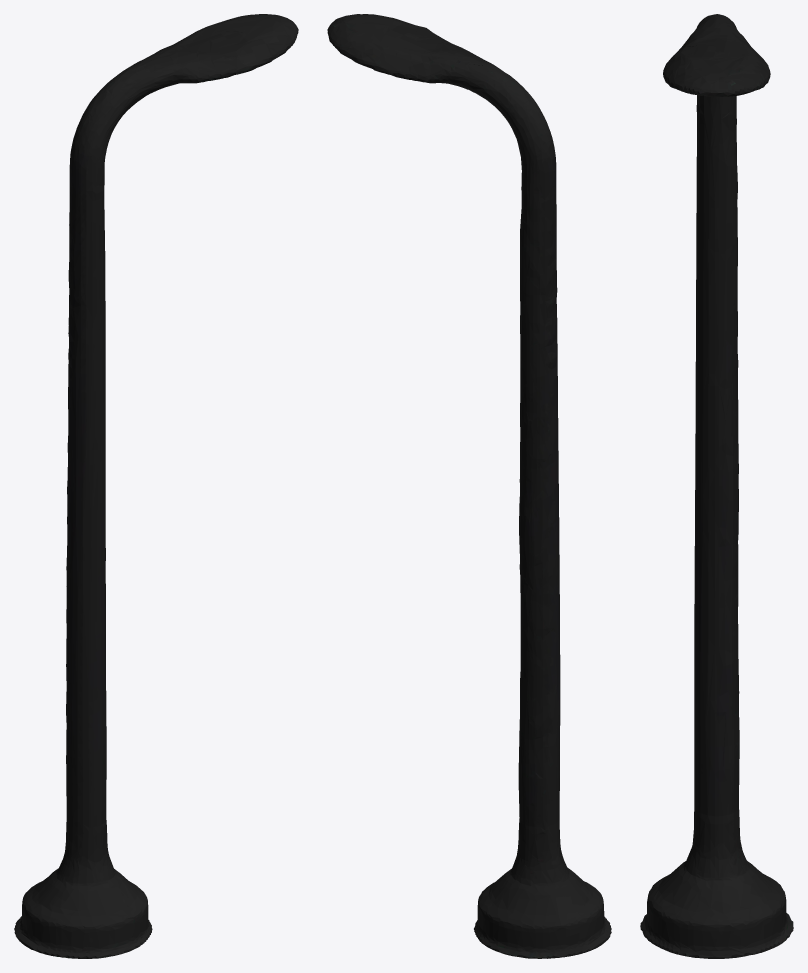
The model's file is prop-street-lamp.glb.
3 views of the same model, side by side, from view 1: azimuth 30°, elevation 25°; view 2: azimuth 150°, elevation 25°; view 3: azimuth 270°, elevation 25° (orthographic). The views are drawn at different scales.
Visible parts, largest first — view 1: material; view 2: material; view 3: material.
Part boxes in pixels (box(x1,y1,x2,y2)): material: box(14, 14, 298, 958); material: box(327, 14, 611, 958); material: box(640, 14, 793, 958).
Size of the model in its own units: 0.3715 by 1.14 by 0.1656.
1 material, 1 textured.
